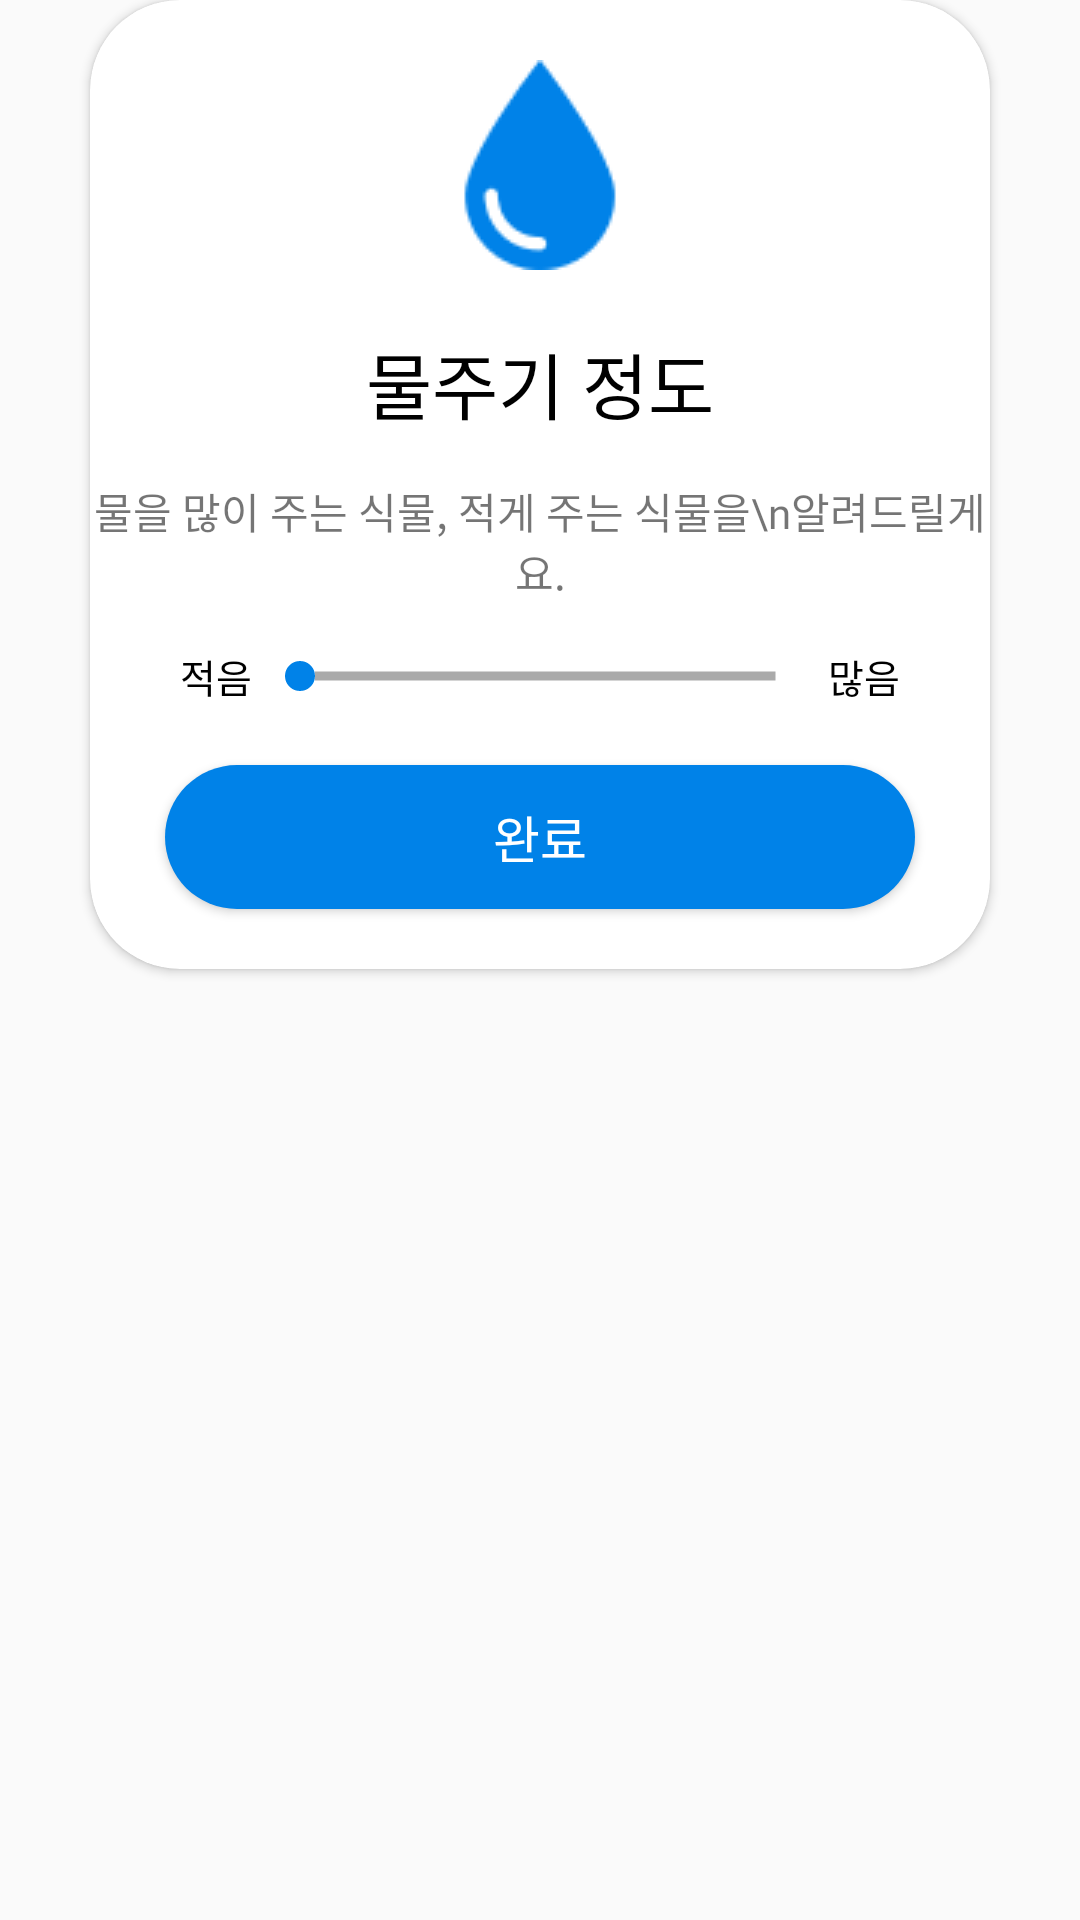

Screen size 1080x1920. Icon name, then its box in pixels as (x1, y1, x2, y2):
drop: (464, 60, 616, 270)
